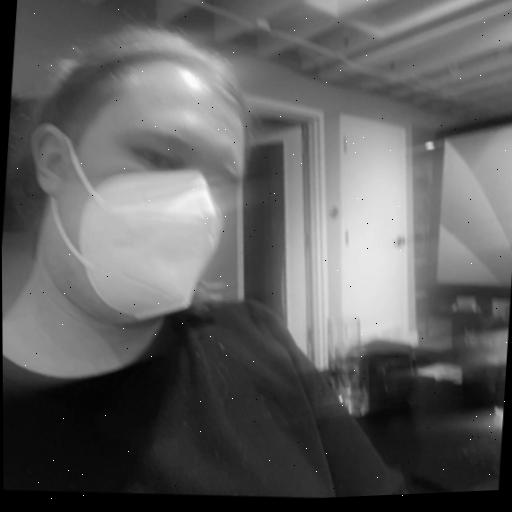mask: (0, 9, 283, 404)
